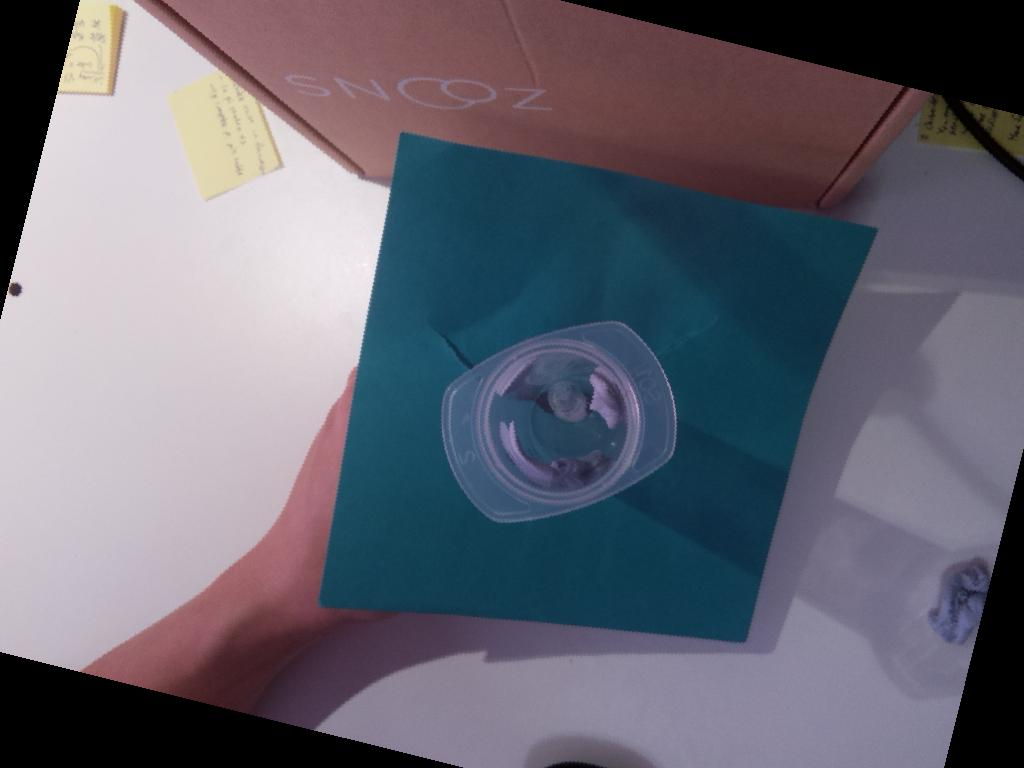dirty: (441, 321, 679, 523)
